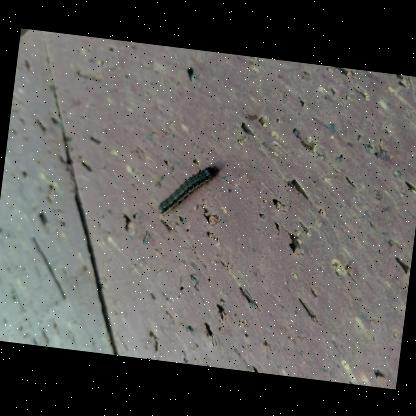Fall Armyworm Larvae: (154, 158, 222, 224)
